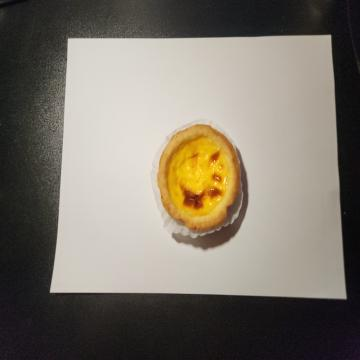EggTart: (157, 124, 240, 230)
